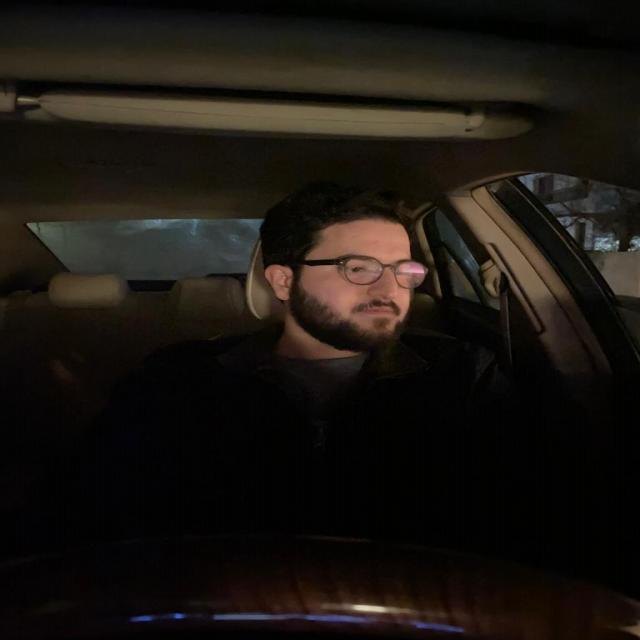person: (256, 190, 439, 365)
